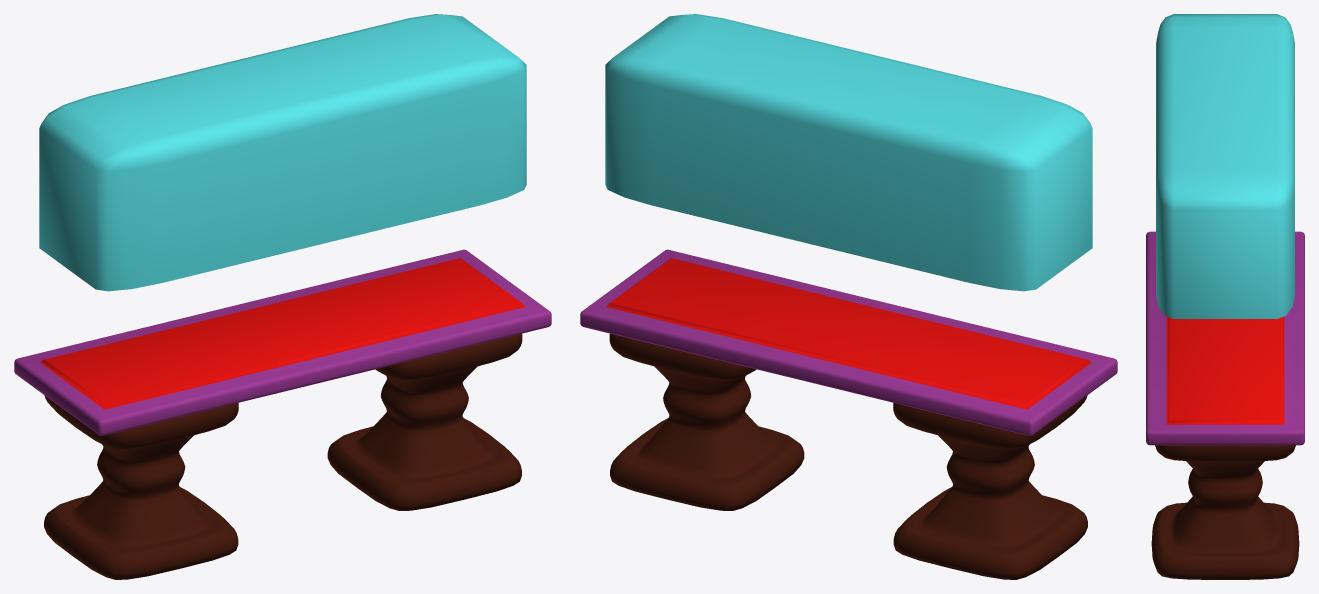
Rendered from Cabinetf_big.fbx.
3 views of the same model, side by side, from view 1: azimuth 30°, elevation 25°; view 2: azimuth 150°, elevation 25°; view 3: azimuth 270°, elevation 25° (orthographic). The views are drawn at different scales.
Parts seen in each view (by area): view 1: Cube.001, Cube.004; view 2: Cube.001, Cube.004; view 3: Cube.001, Cube.004.
Boxes of the visible parts, x1,y1,x2,y2 form: Cube.001: [39, 14, 526, 291]; Cube.004: [14, 249, 551, 579]; Cube.001: [605, 14, 1092, 291]; Cube.004: [580, 249, 1117, 579]; Cube.001: [1156, 14, 1294, 318]; Cube.004: [1146, 231, 1304, 579].
Size of the model in its own units: 639 by 585 by 213.
